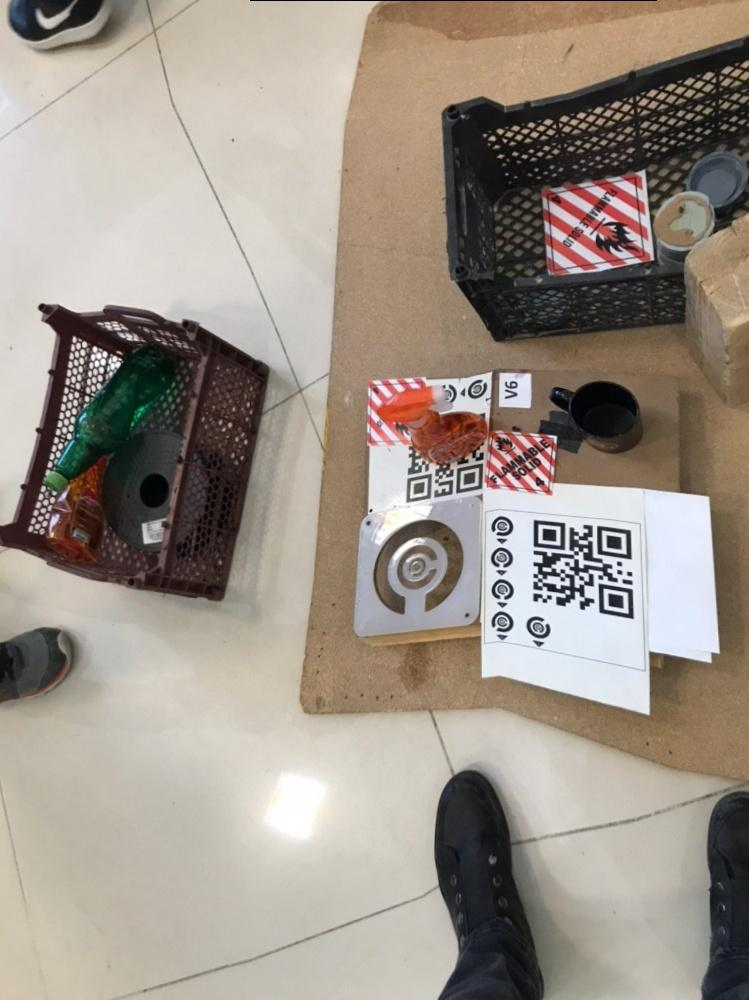flammable-solid: (534, 160, 663, 290), (364, 376, 436, 447), (481, 433, 560, 497)
